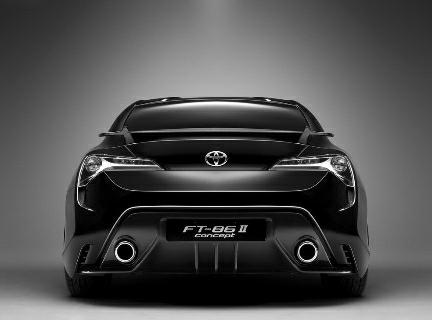丰田-FT-86: (56, 89, 380, 302)
